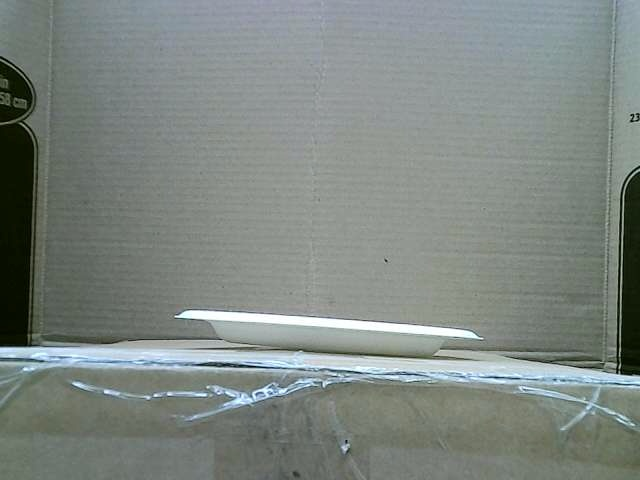Plate: (174, 308, 484, 353)
